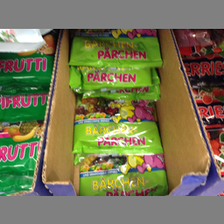candy: (76, 92, 166, 195), (72, 30, 160, 66)
